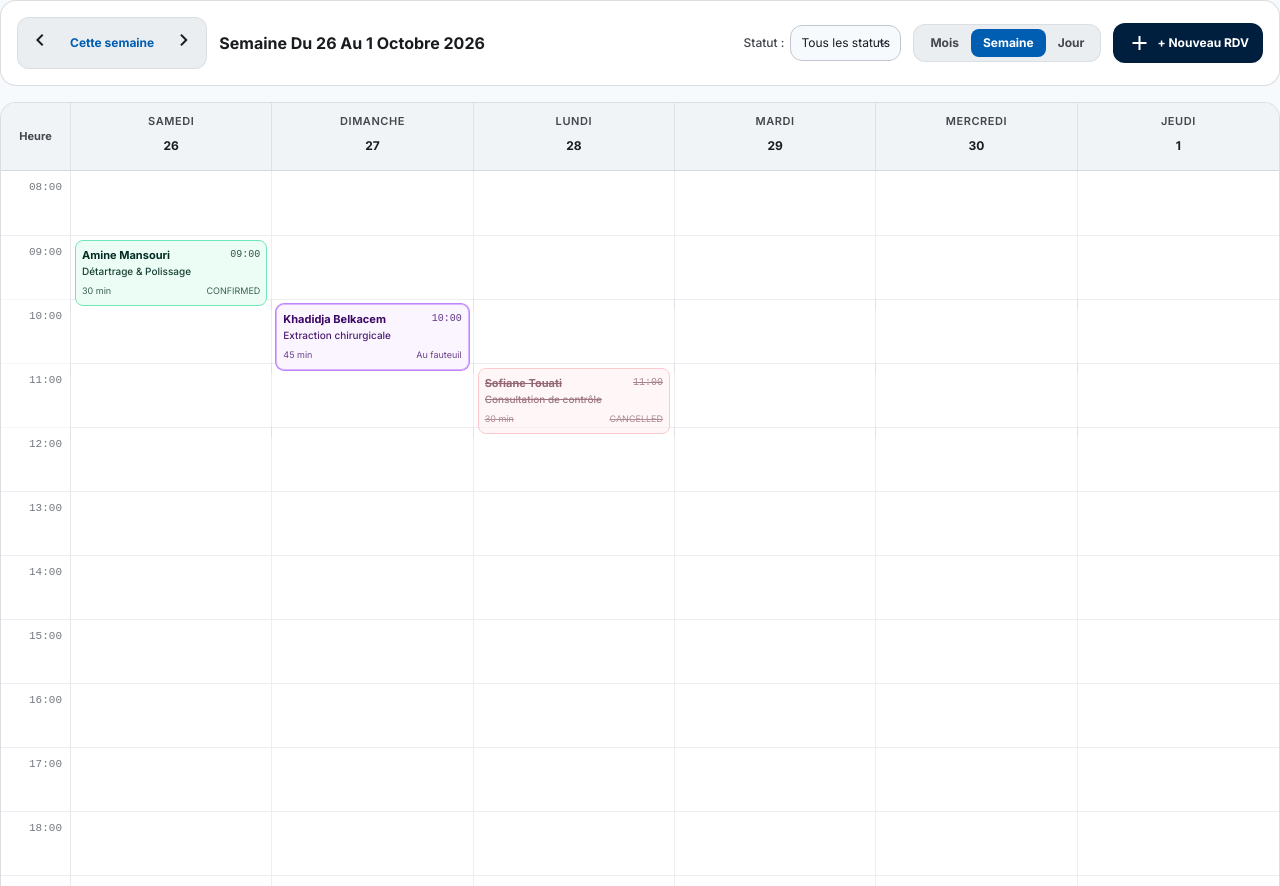
FullCalendarView Frontend Tests (Month, Week, Day & Interactivity) › 1. Navigation & View Switching (MONTH, WEEK, DAY) › allows cycling between all views (WEEK -> MONTH -> DAY -> WEEK) seamlessly without errors
The image size is (1280, 886).
Click the button "Mois" at x=945, y=43, box x1=918 y1=29 x2=971 y2=57
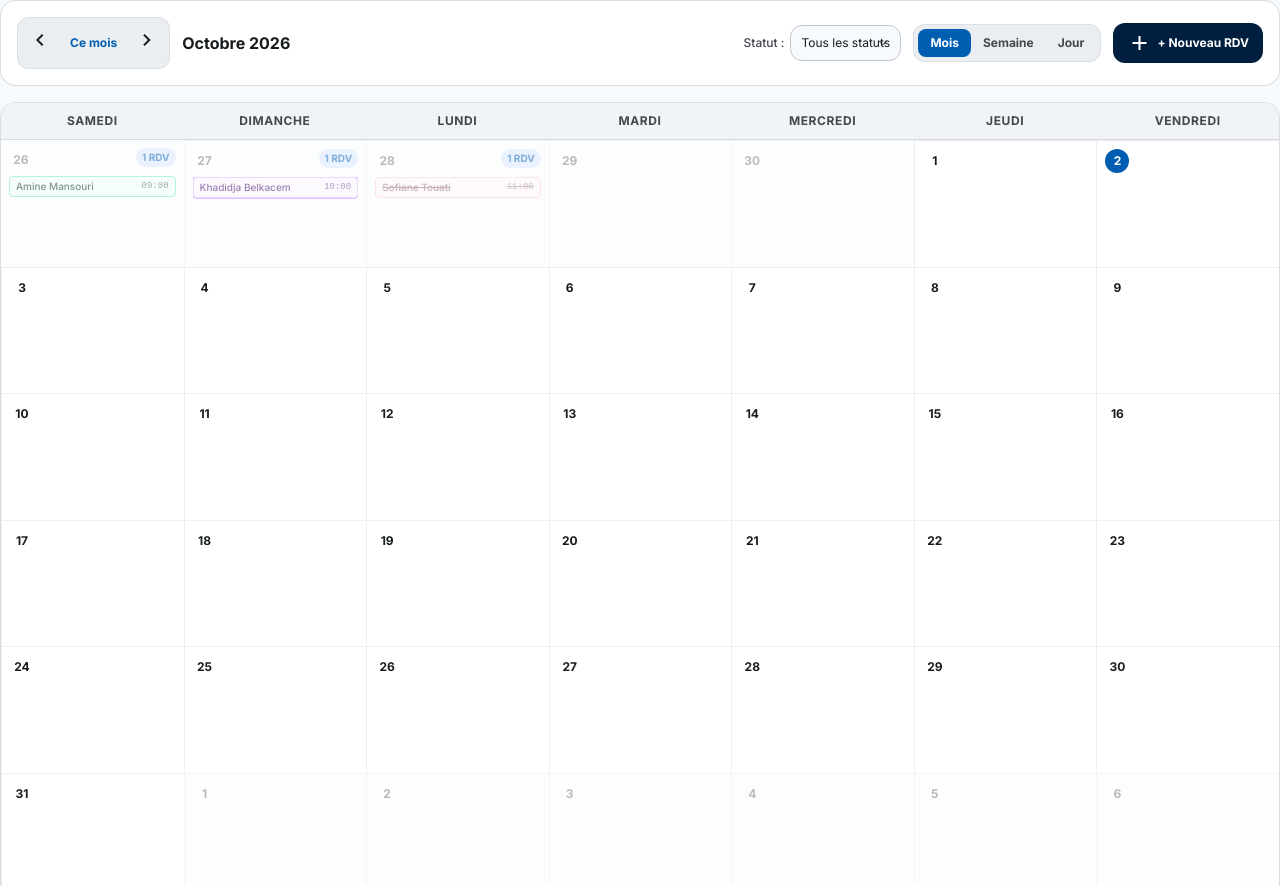
Expected: the text "Vendredi" is shown, x1=1155 y1=113 x2=1221 y2=128
Click the button "Jour" at x=1071, y=43, box x1=1046 y1=29 x2=1096 y2=57
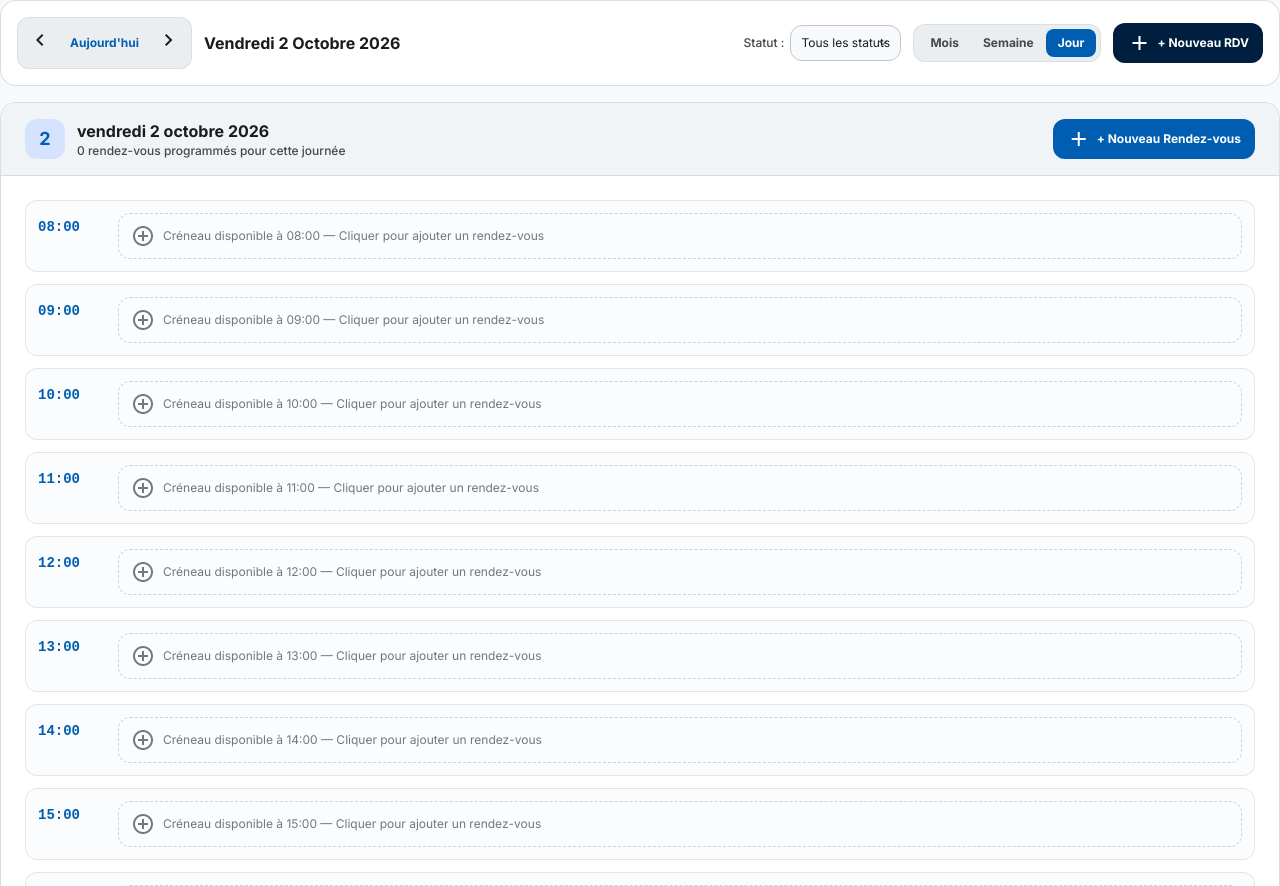
Expected: the text "+ Nouveau Rendez-vous" is shown, x1=1097 y1=131 x2=1241 y2=147
Click the button "Semaine" at x=1008, y=43, box x1=971 y1=29 x2=1046 y2=57
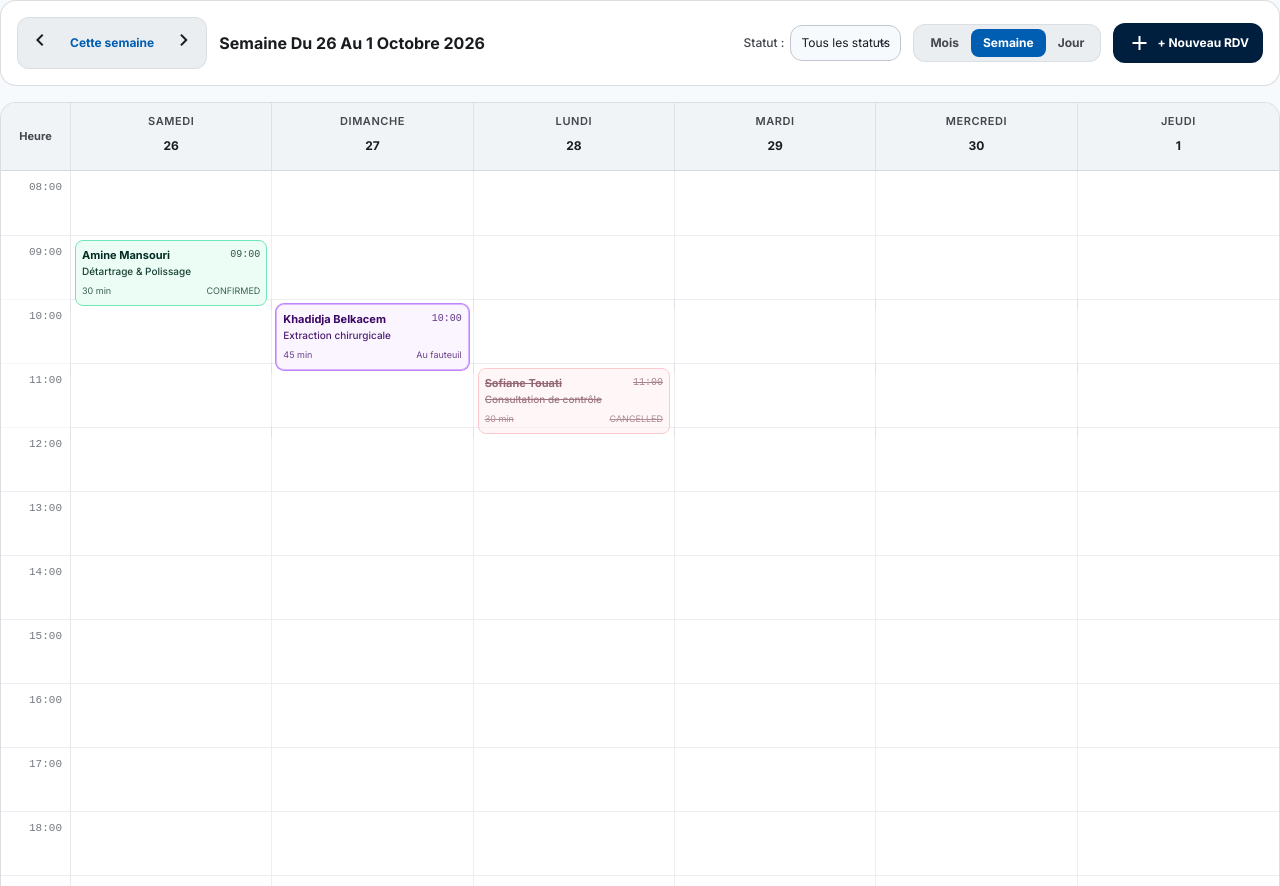
Expected: the text "Heure" is shown, x1=1 y1=103 x2=71 y2=170
Expected: the heading "vendredi" is gone
